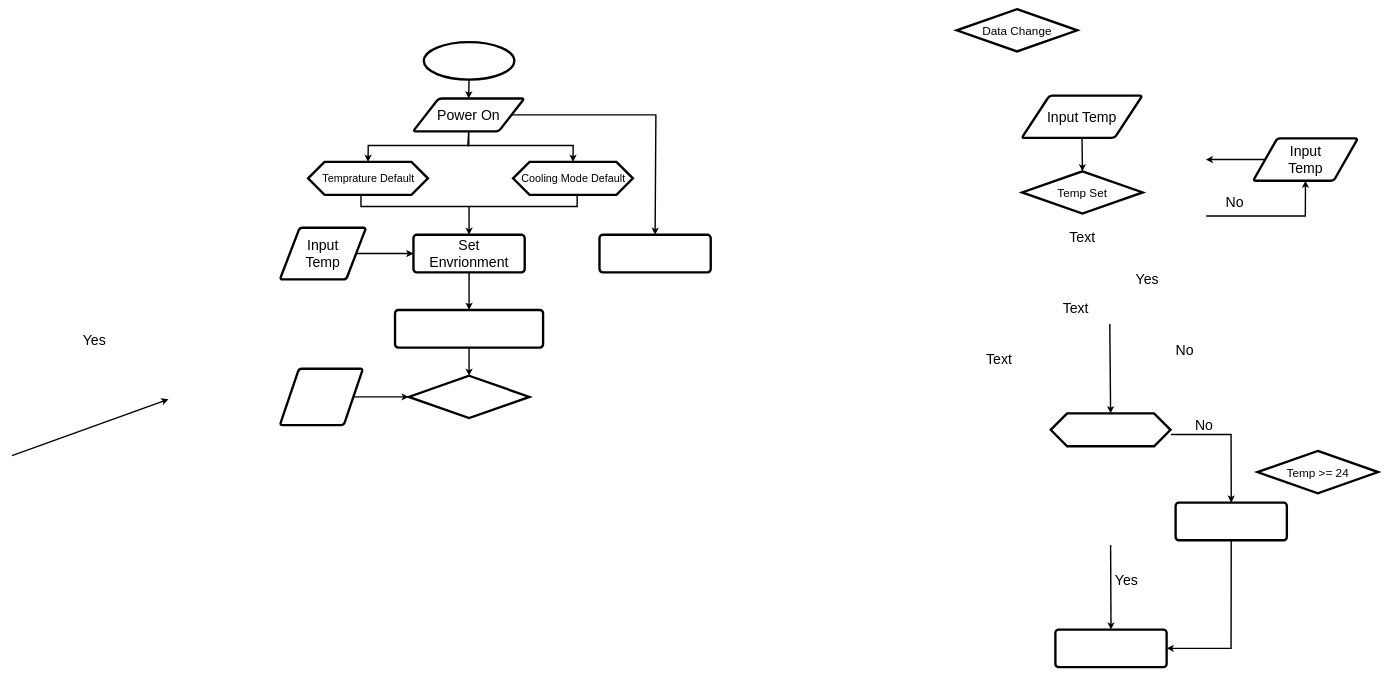
This 1387x676 diagram has some shape labels left out. Here are the shapes that lost their labels. From the top down, the box of each, then its label:
(422, 41, 515, 81): Start
(598, 233, 712, 273): LED ON
(394, 309, 544, 349): Sensor measurement
(278, 367, 364, 426): Input Time
(1174, 501, 1288, 541): Set Heating Mode
